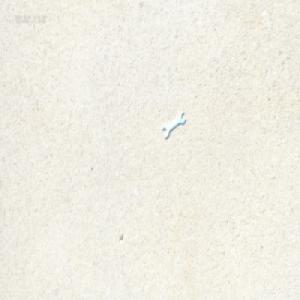Wrench: (162, 110, 184, 138)
